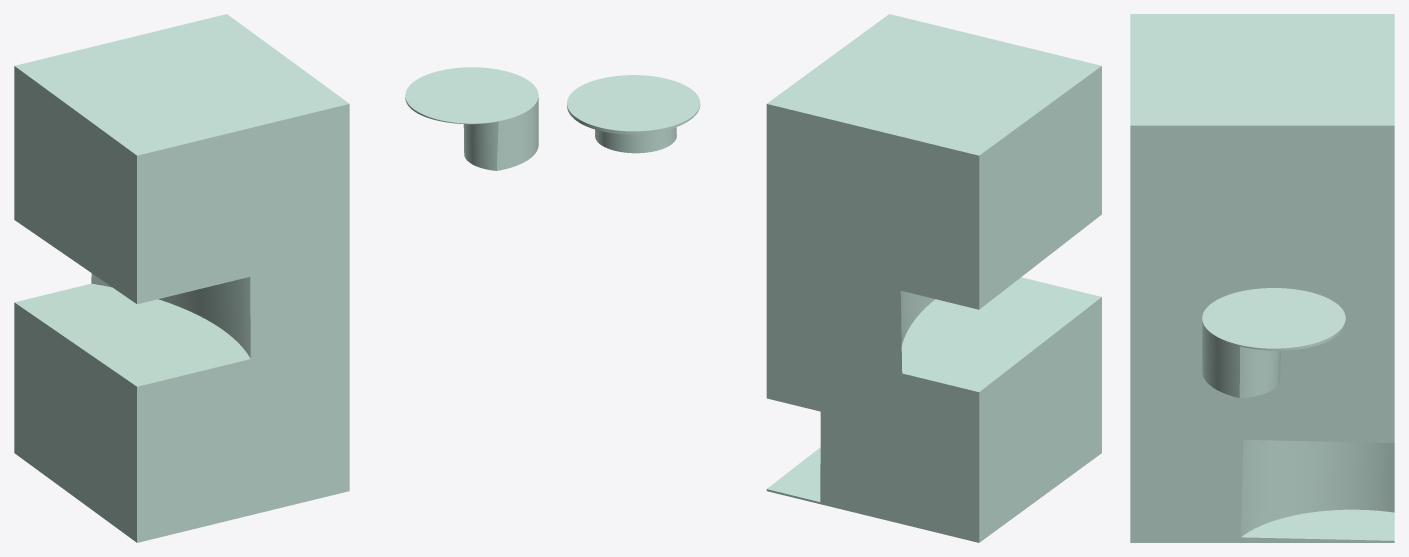
3 renders of one model, left to right at view 1: azimuth 30°, elevation 25°; view 2: azimuth 150°, elevation 25°; view 3: azimuth 270°, elevation 25°, orthographic. The views are drawn at different scales.
Visible parts, largest first — view 1: Renderer Node; view 2: Renderer Node; view 3: Renderer Node.
Part boxes in pixels (left/top/right/bottom): Renderer Node: left=14, top=14, right=538, bottom=542; Renderer Node: left=567, top=14, right=1101, bottom=542; Renderer Node: left=1130, top=14, right=1394, bottom=542.
Bounding box in the file's own units: 0.9113 × 0.7344 × 0.4219.
